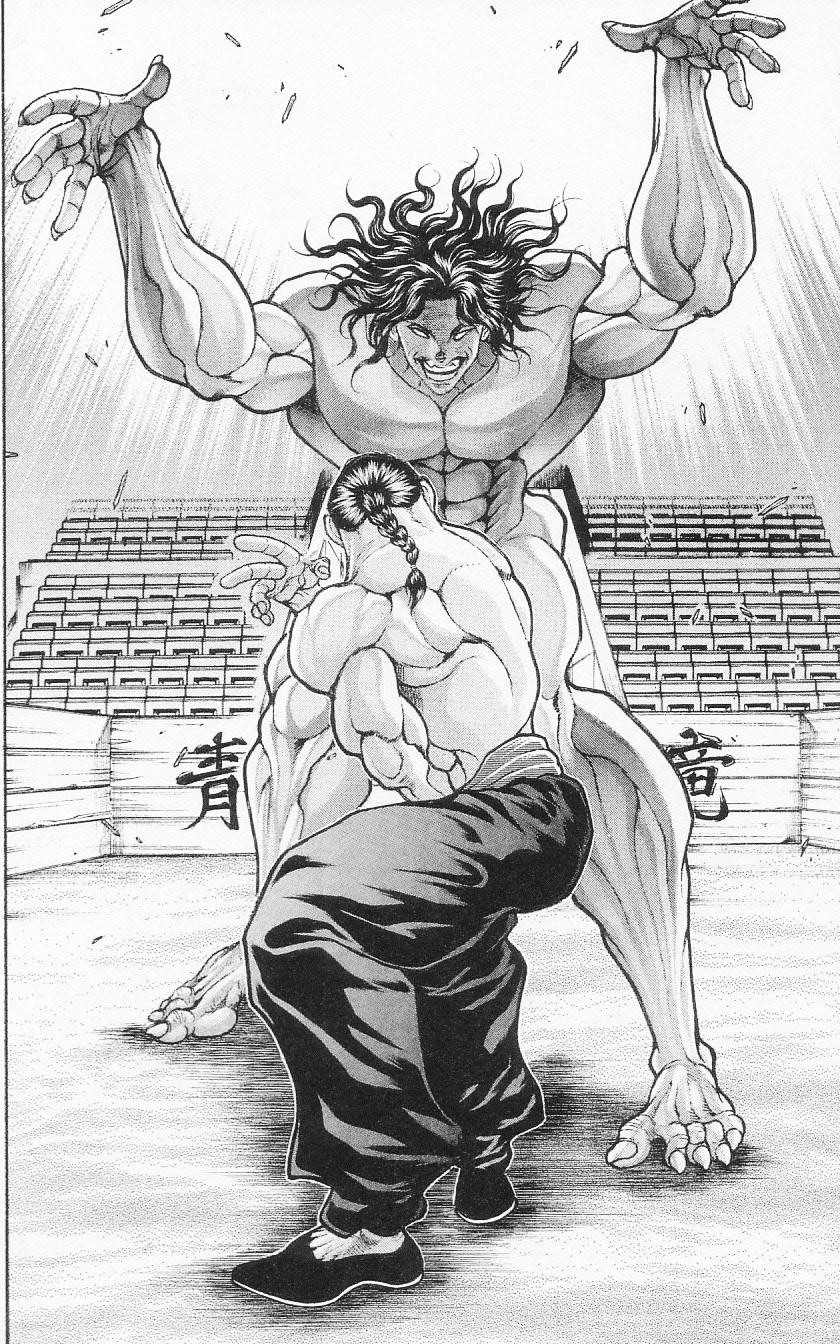Vignetta: (1, 1, 840, 1337)
